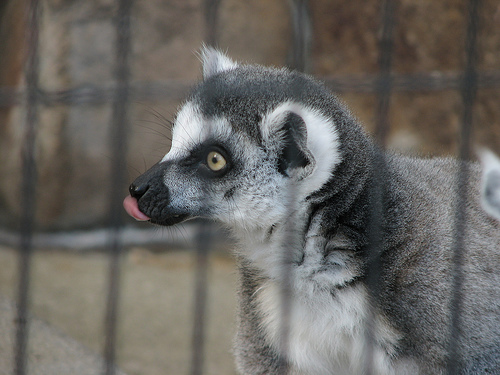cat: (123, 44, 499, 374)
